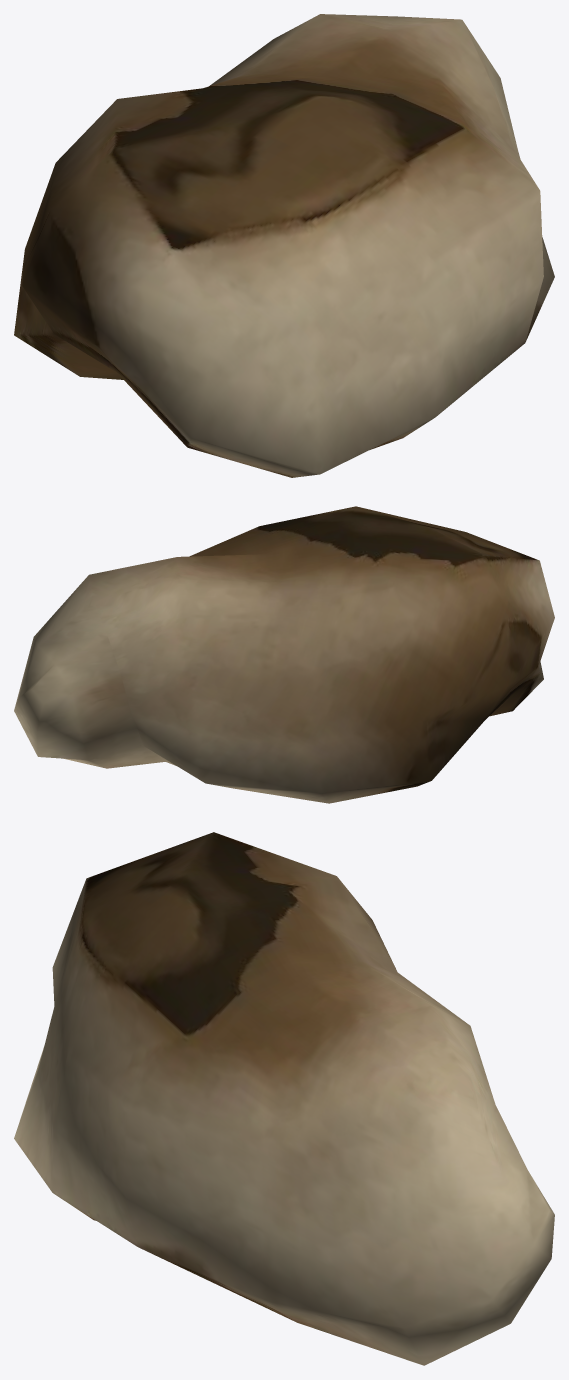
File: Radial.glb
The picture shows the model from 3 angles, top to bottom: view 1: azimuth 30°, elevation 25°; view 2: azimuth 150°, elevation 25°; view 3: azimuth 270°, elevation 25°; orthographic projection. The views are drawn at different scales.
Visible parts, largest first — view 1: Radial_Right1:Group52780; view 2: Radial_Right1:Group52780; view 3: Radial_Right1:Group52780.
Boxes of the visible parts, bbox=[...] form: Radial_Right1:Group52780: bbox=[14, 14, 554, 477]; Radial_Right1:Group52780: bbox=[14, 506, 554, 803]; Radial_Right1:Group52780: bbox=[14, 832, 554, 1365].
Size of the model in its own units: 19.87 by 10.92 by 16.79.
1 material, 1 textured.
